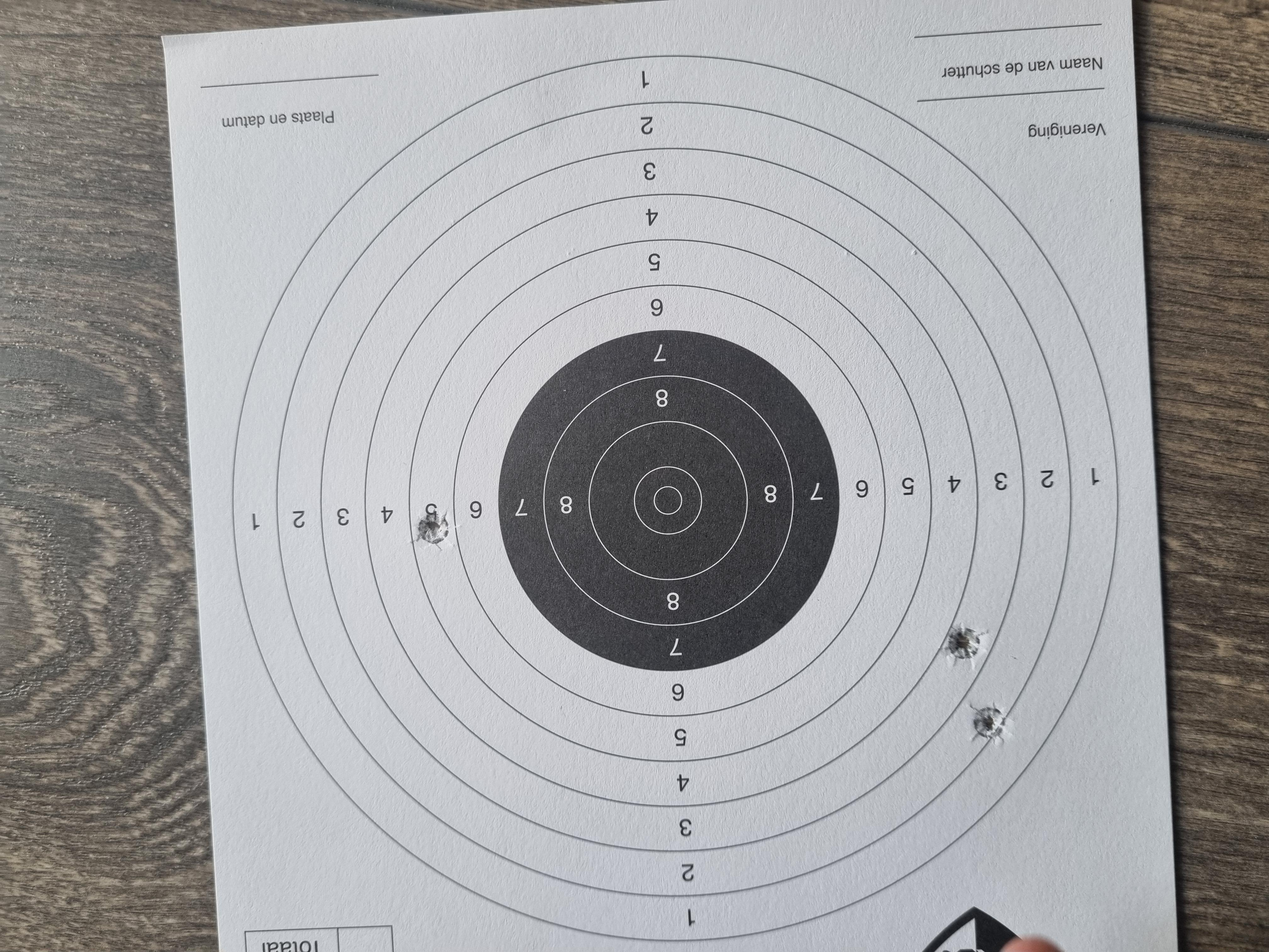hole: (273, 724, 339, 757), (381, 708, 445, 740), (534, 311, 589, 338)
